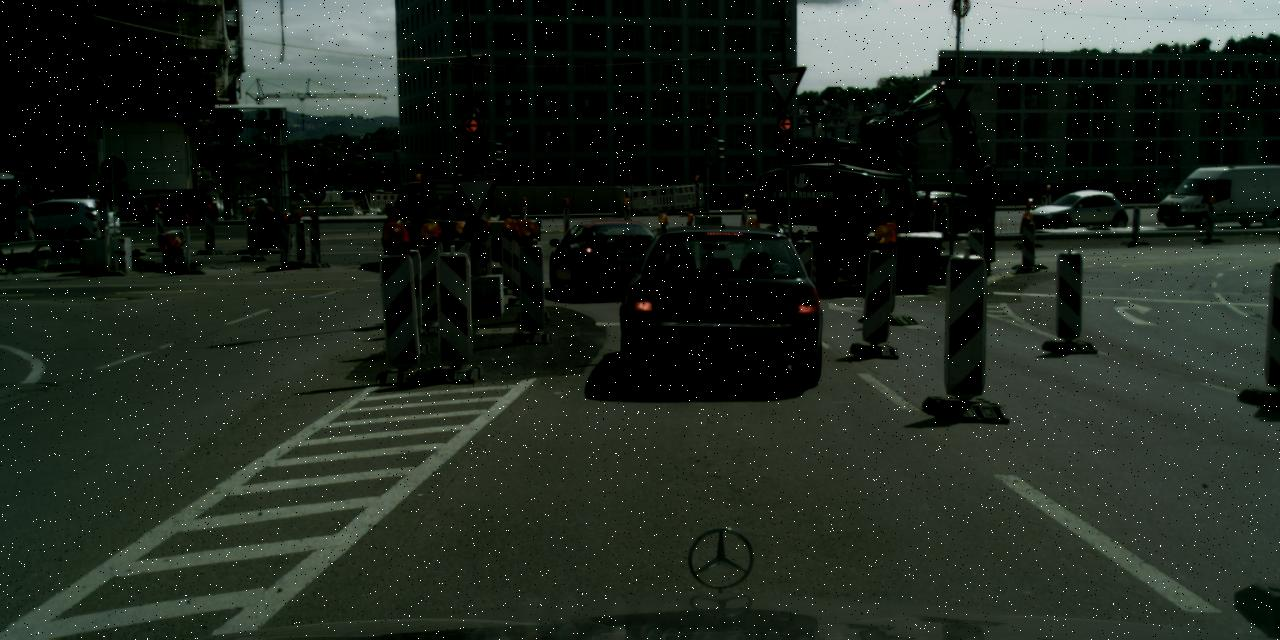ped: (257, 197, 274, 241)
